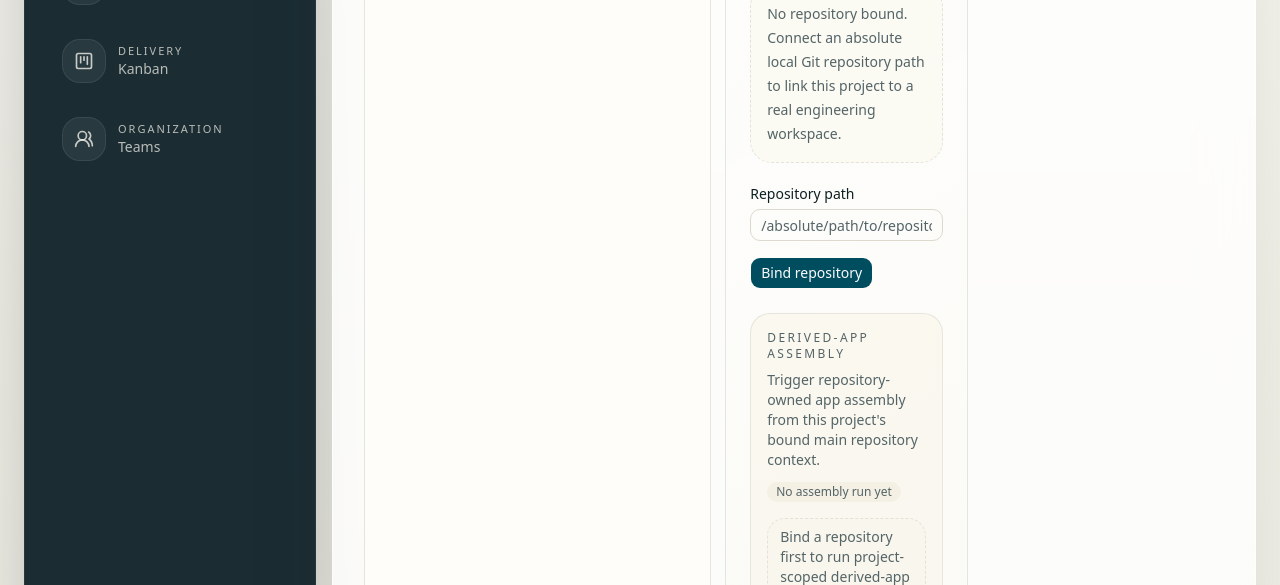
Scenario: admin write workflows › shows restricted derived-app upgrade support state until a project has a successful assembly output
(page scrolled)
Type "/workspace/fast-service-platform" into the field labelled "Repository path" at {"x": 846, "y": 225}, box [750,209,943,241]
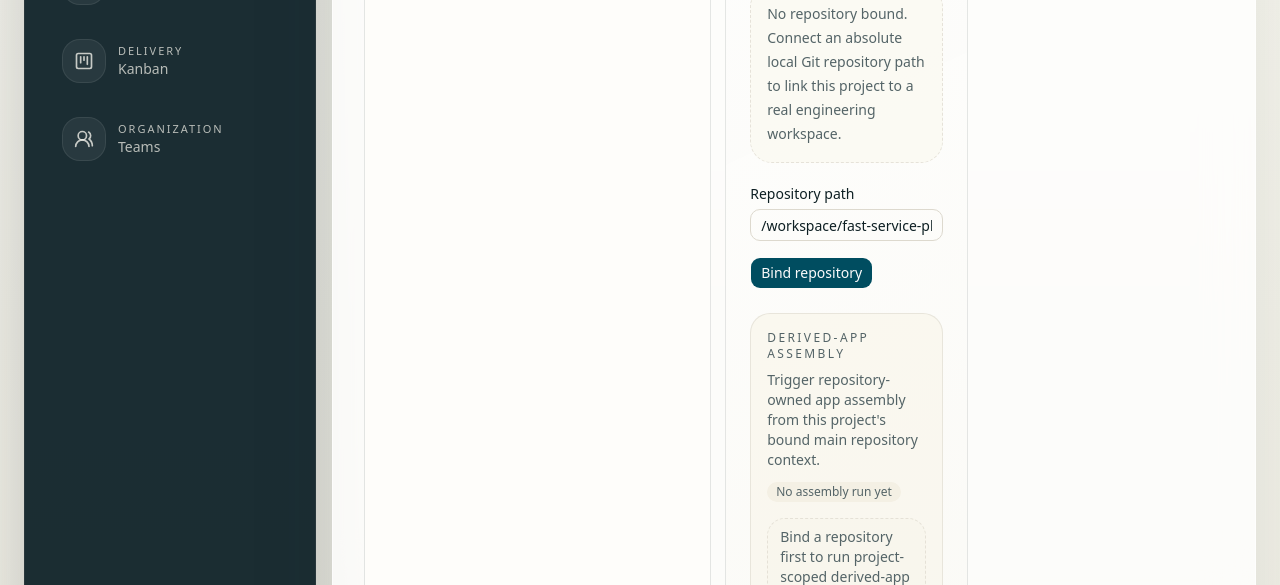
Click the button "Bind repository" at {"x": 812, "y": 273}, box [750,257,873,289]
(page scrolled)
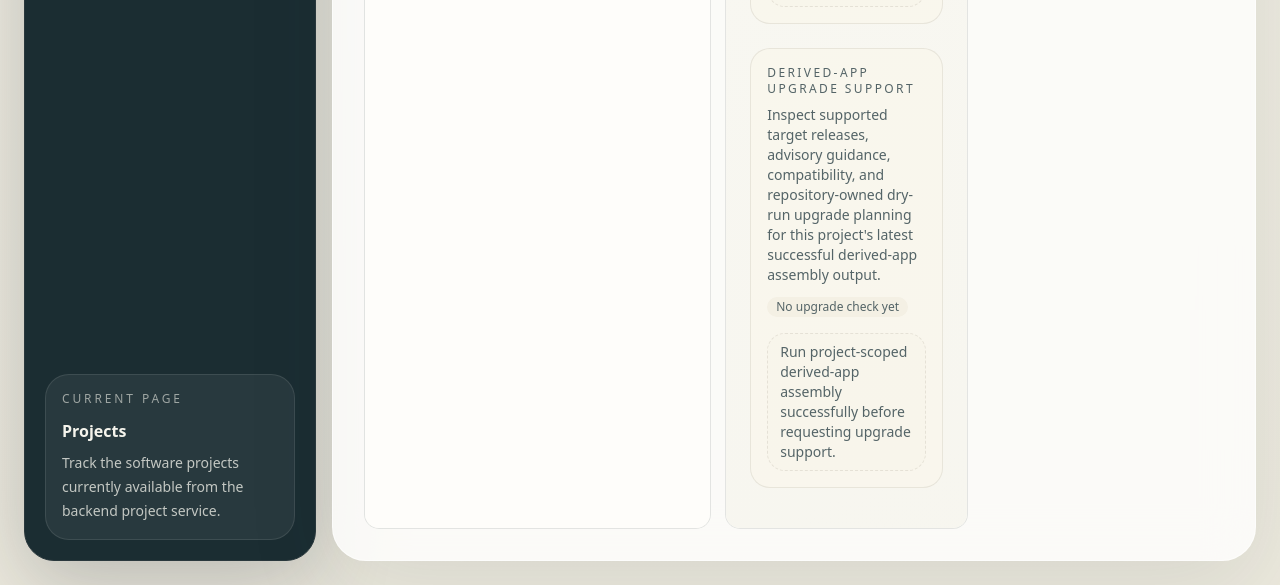
Check: the text "Run project-scoped derived-app assembly successfully before requesting upgrade support." is shown, box [780,342,911,461]
